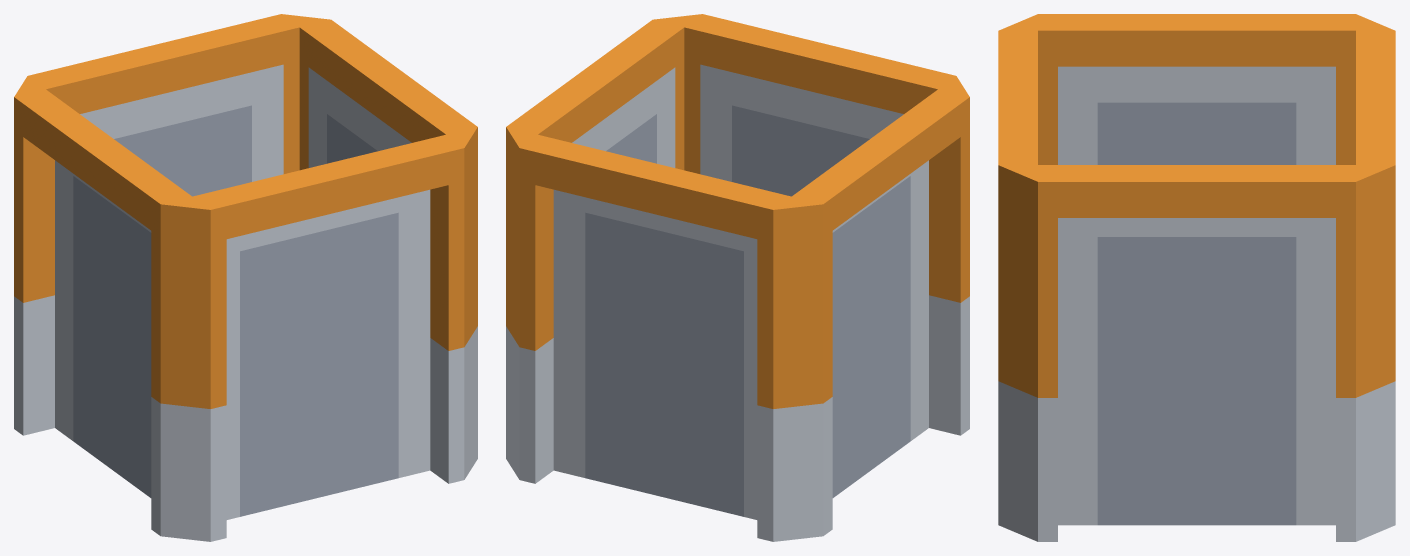
Rendered from structure_closed.glb.
The picture shows the model from 3 angles, left to right: view 1: azimuth 30°, elevation 25°; view 2: azimuth 150°, elevation 25°; view 3: azimuth 270°, elevation 25°; orthographic projection. The views are drawn at different scales.
Parts seen in each view (by area): view 1: structure_closed; view 2: structure_closed; view 3: structure_closed.
Part boxes in pixels (x1=…): structure_closed: x1=14, y1=14, x2=477, y2=541; structure_closed: x1=506, y1=14, x2=969, y2=541; structure_closed: x1=998, y1=14, x2=1395, y2=541.
Bounding box in the file's own units: 1 × 1 × 1.
